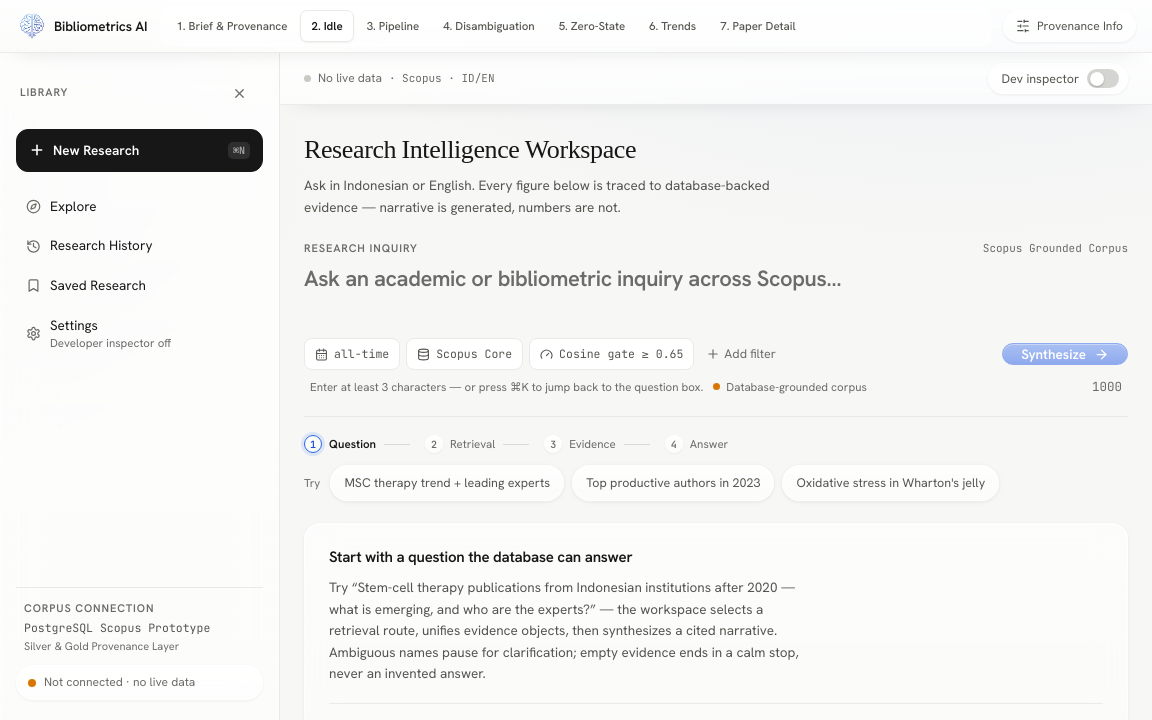
Workspace — answer flow › renders an explicit error state when the backend is unreachable
Type "MSC therapy trend in Indonesia?" into the text box named "research question" at (716, 293), box [304, 265, 1128, 321]
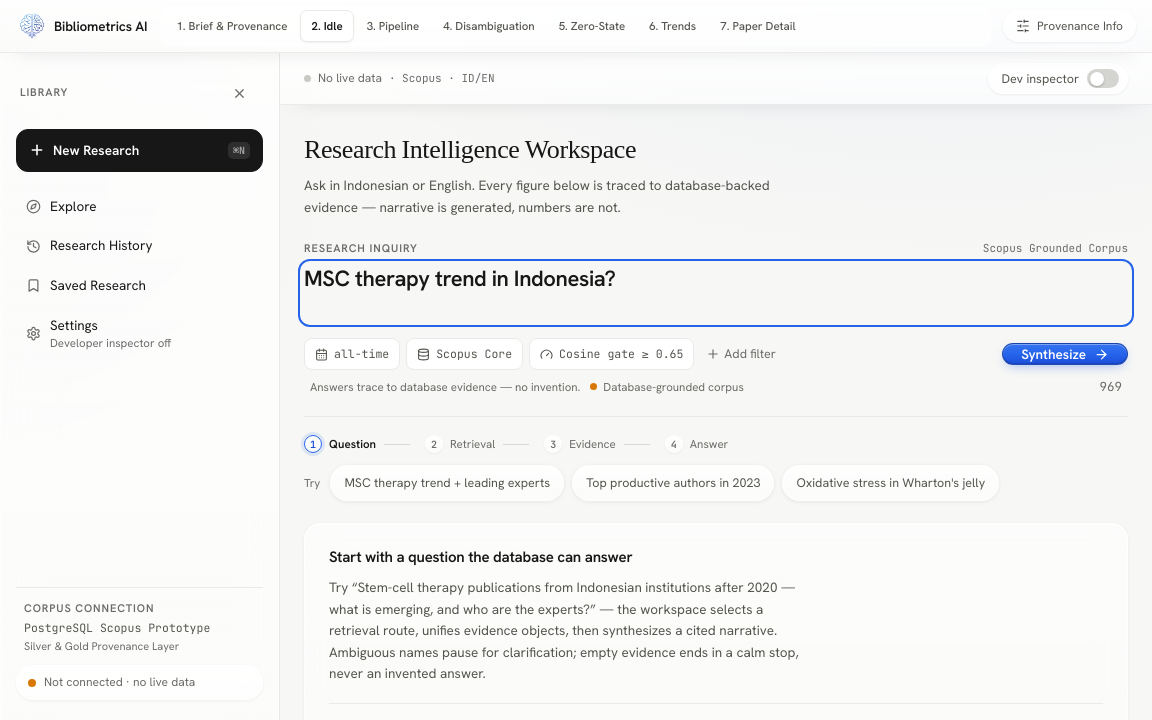
Click the button "Synthesize" at (1065, 354), box [1002, 342, 1128, 365]
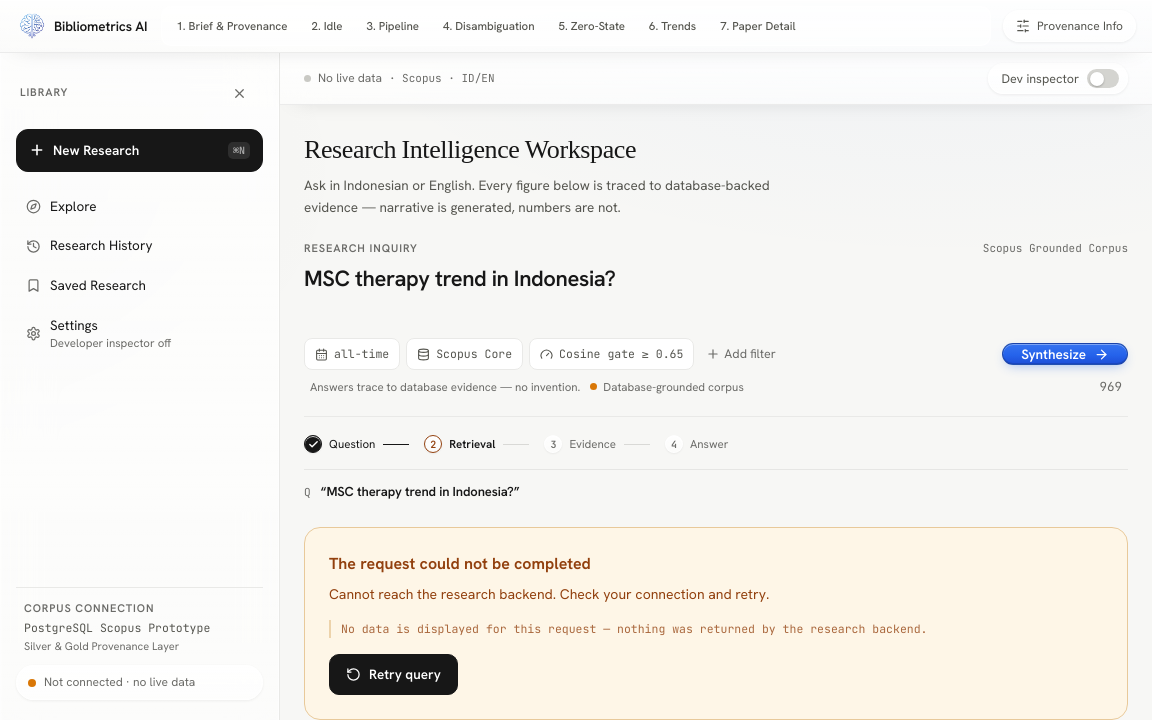
Check: the message is shown, box [304, 526, 1128, 719]
Check: the message shows "could not be completed", box [329, 552, 591, 574]
